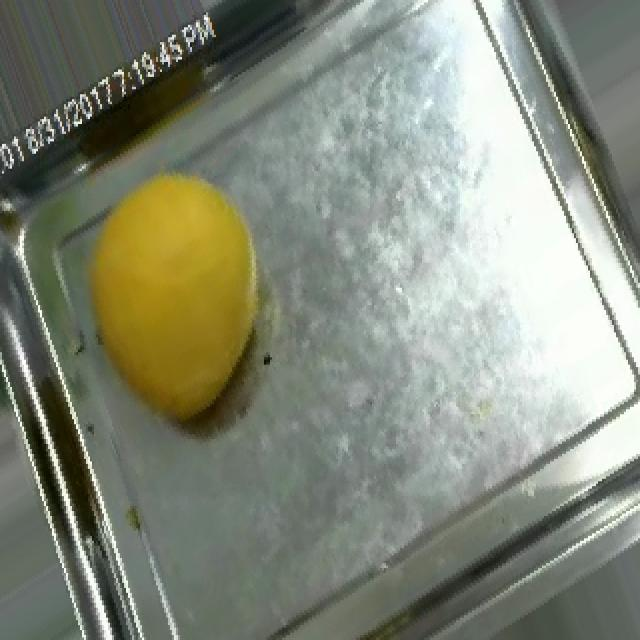fruit: (36, 121, 346, 464)
